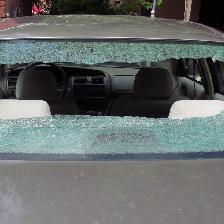broken_glass: (0, 16, 222, 214)
